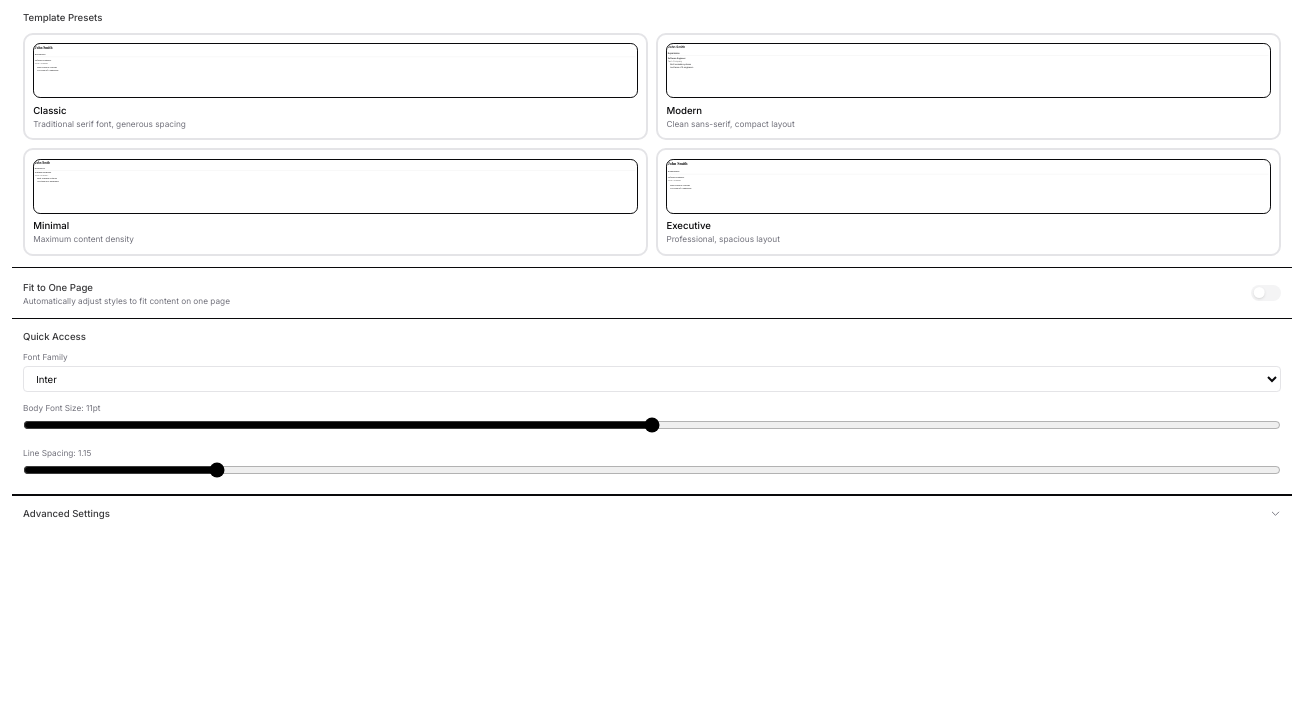
StylePanel › rendering › expands Advanced Settings when clicked
Click to expand
What coordinates should you click on to do the following:
click the button "Advanced Settings"
I would click on:
 (66, 513)
Its box is [12, 496, 1292, 531].
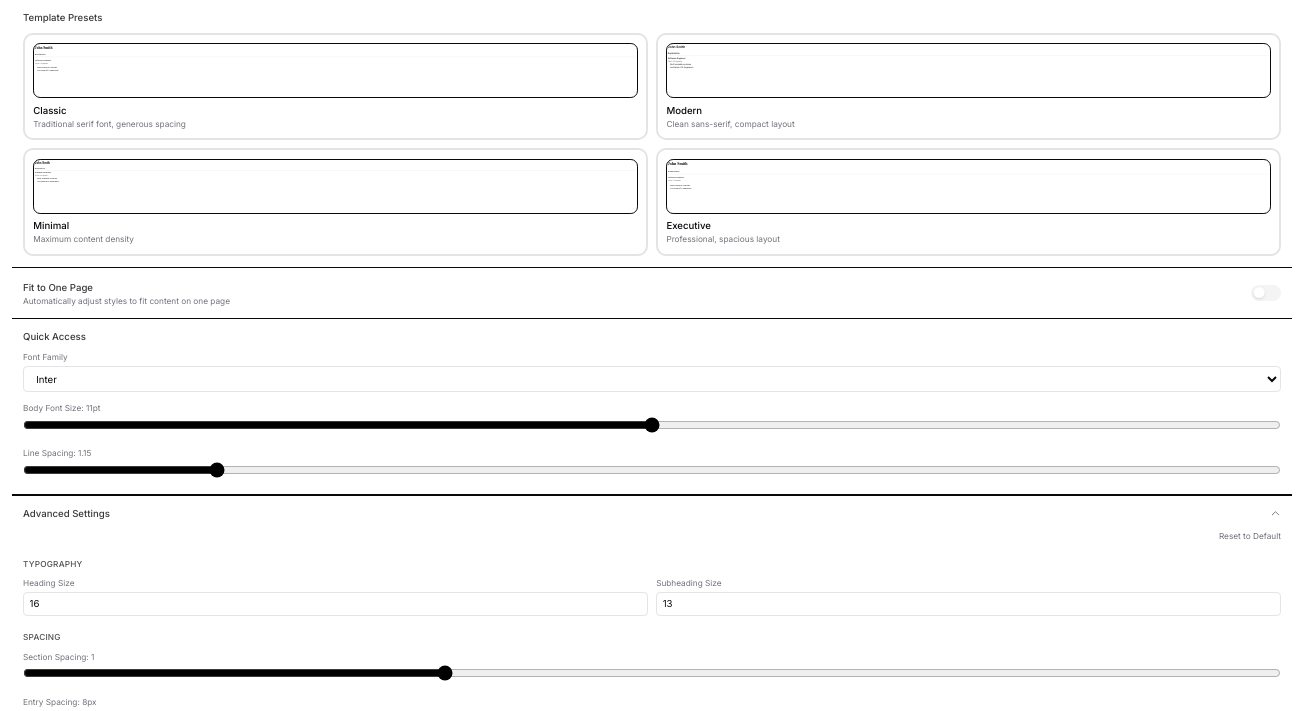
Check: the button "Reset to Default" is shown, box [1219, 531, 1281, 542]
Check: the heading "Typography" is shown, box [23, 559, 82, 569]
Check: the text "Entry Spacing: 8px" is shown, box [23, 697, 97, 707]
